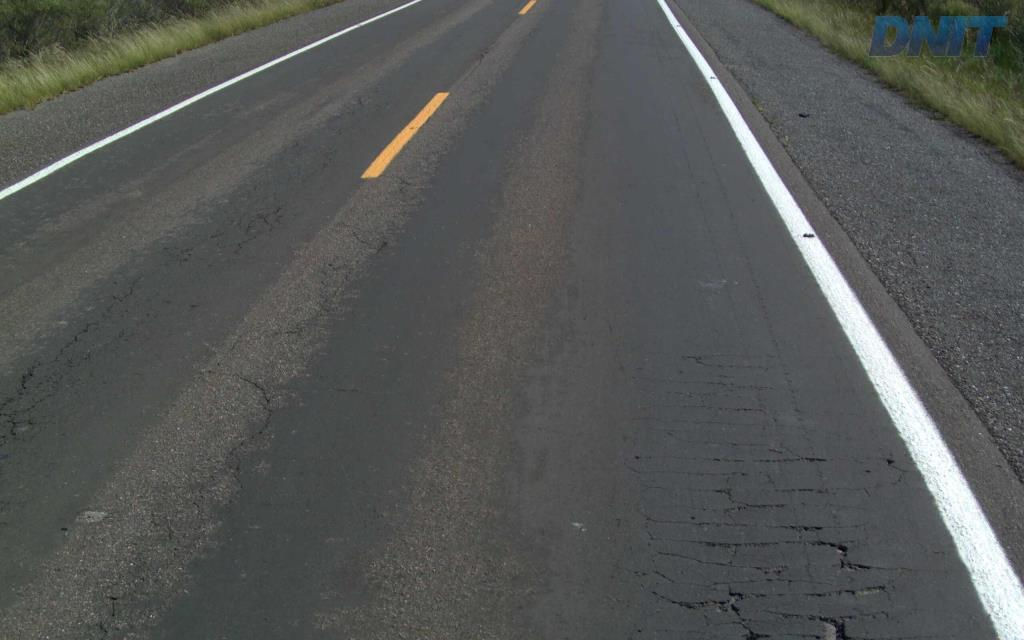crack: (648, 562, 896, 639), (773, 521, 885, 574), (650, 539, 779, 578), (711, 487, 787, 528)
